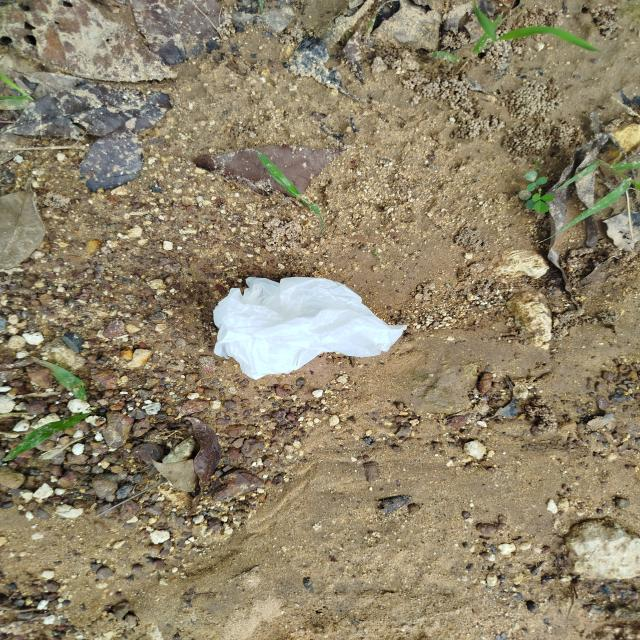residual: (188, 261, 416, 415)
